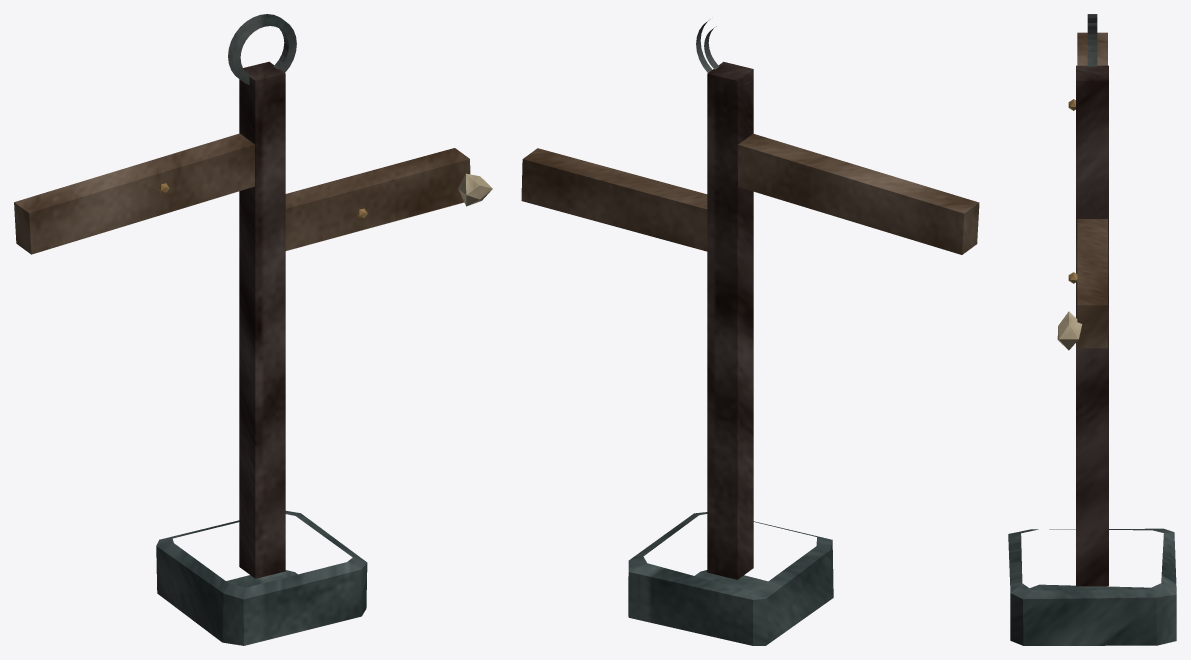
File: 0642_signpost_17.glb
The picture shows the model from 3 angles, left to right: view 1: azimuth 30°, elevation 25°; view 2: azimuth 150°, elevation 25°; view 3: azimuth 270°, elevation 25°; orthographic projection.
Parts seen in each view (by area): view 1: wood, wood_dark, stone_dark, iron, bone; view 2: wood, wood_dark, stone_dark; view 3: wood_dark, stone_dark, wood, bone, iron.
Boxes of the visible parts, x1,y1,x2,y2 form: wood: [14, 133, 470, 254]; wood_dark: [239, 61, 285, 578]; stone_dark: [156, 511, 367, 645]; iron: [228, 14, 296, 84]; bone: [458, 173, 492, 206]; wood: [521, 133, 979, 254]; wood_dark: [707, 61, 753, 579]; stone_dark: [628, 512, 833, 645]; wood_dark: [1076, 65, 1108, 586]; stone_dark: [1008, 528, 1176, 645]; wood: [1077, 32, 1107, 348]; bone: [1057, 311, 1082, 350]; iron: [1087, 14, 1097, 66].
Size of the model in its own units: 2.27 by 2.8 by 0.7154.
6 materials, 6 textured.
